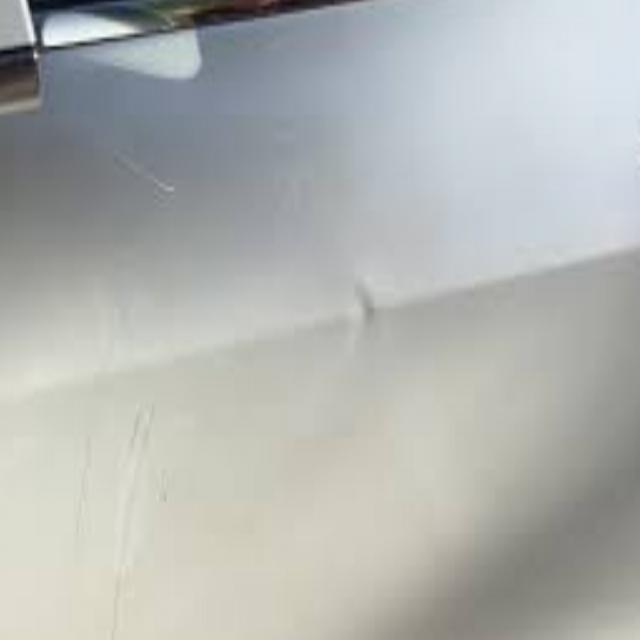dents: (346, 279, 406, 374)
